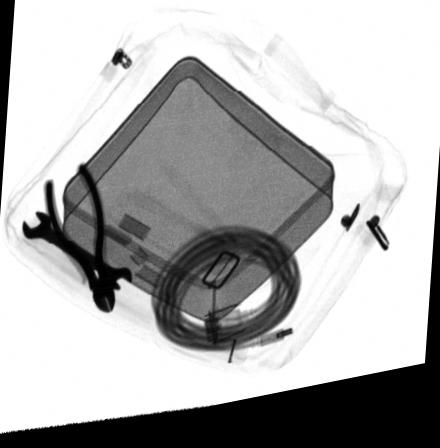Pliers: (43, 165, 118, 317)
Wrench: (23, 211, 132, 296)
